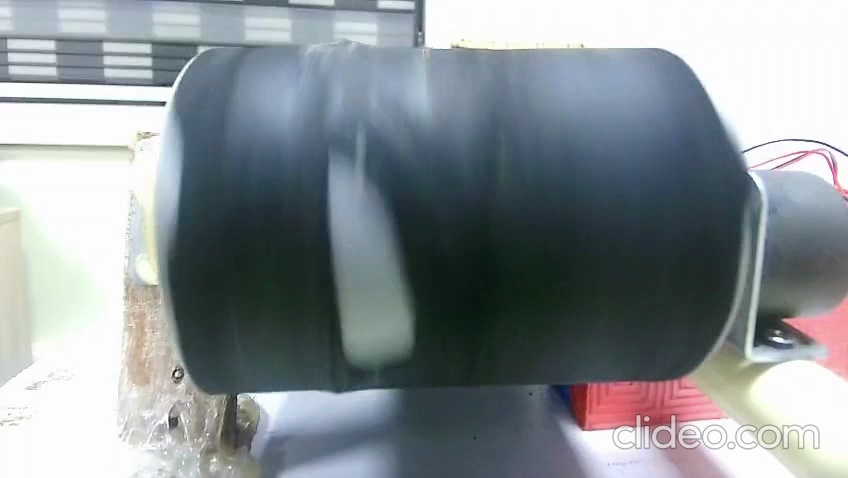hole: (327, 147, 423, 372)
